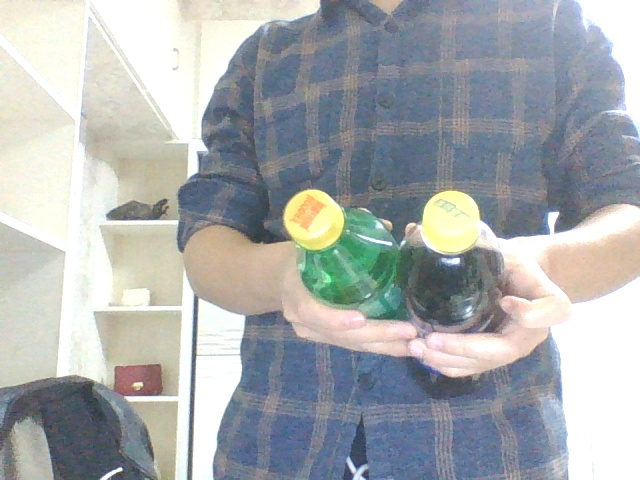Cola: (396, 189, 510, 399)
Sprite: (282, 188, 410, 325)
